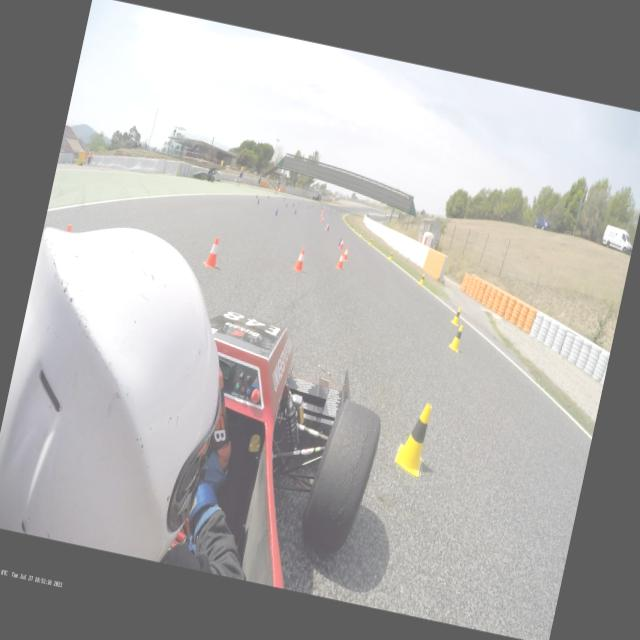orange_cone: (202, 234, 223, 268), (292, 246, 307, 272), (334, 250, 346, 270), (342, 245, 349, 261), (338, 236, 344, 248), (66, 223, 72, 233), (324, 222, 330, 230), (319, 212, 322, 220), (321, 215, 324, 222)
unknown_cone: (337, 237, 341, 247), (274, 208, 278, 215), (256, 198, 260, 204), (294, 208, 296, 215)
yellow_cone: (392, 398, 435, 478), (448, 322, 464, 352), (449, 306, 463, 326), (417, 272, 426, 286), (387, 250, 393, 260), (368, 236, 372, 245), (359, 229, 363, 236), (351, 224, 355, 230), (346, 220, 349, 227), (344, 218, 347, 224)
